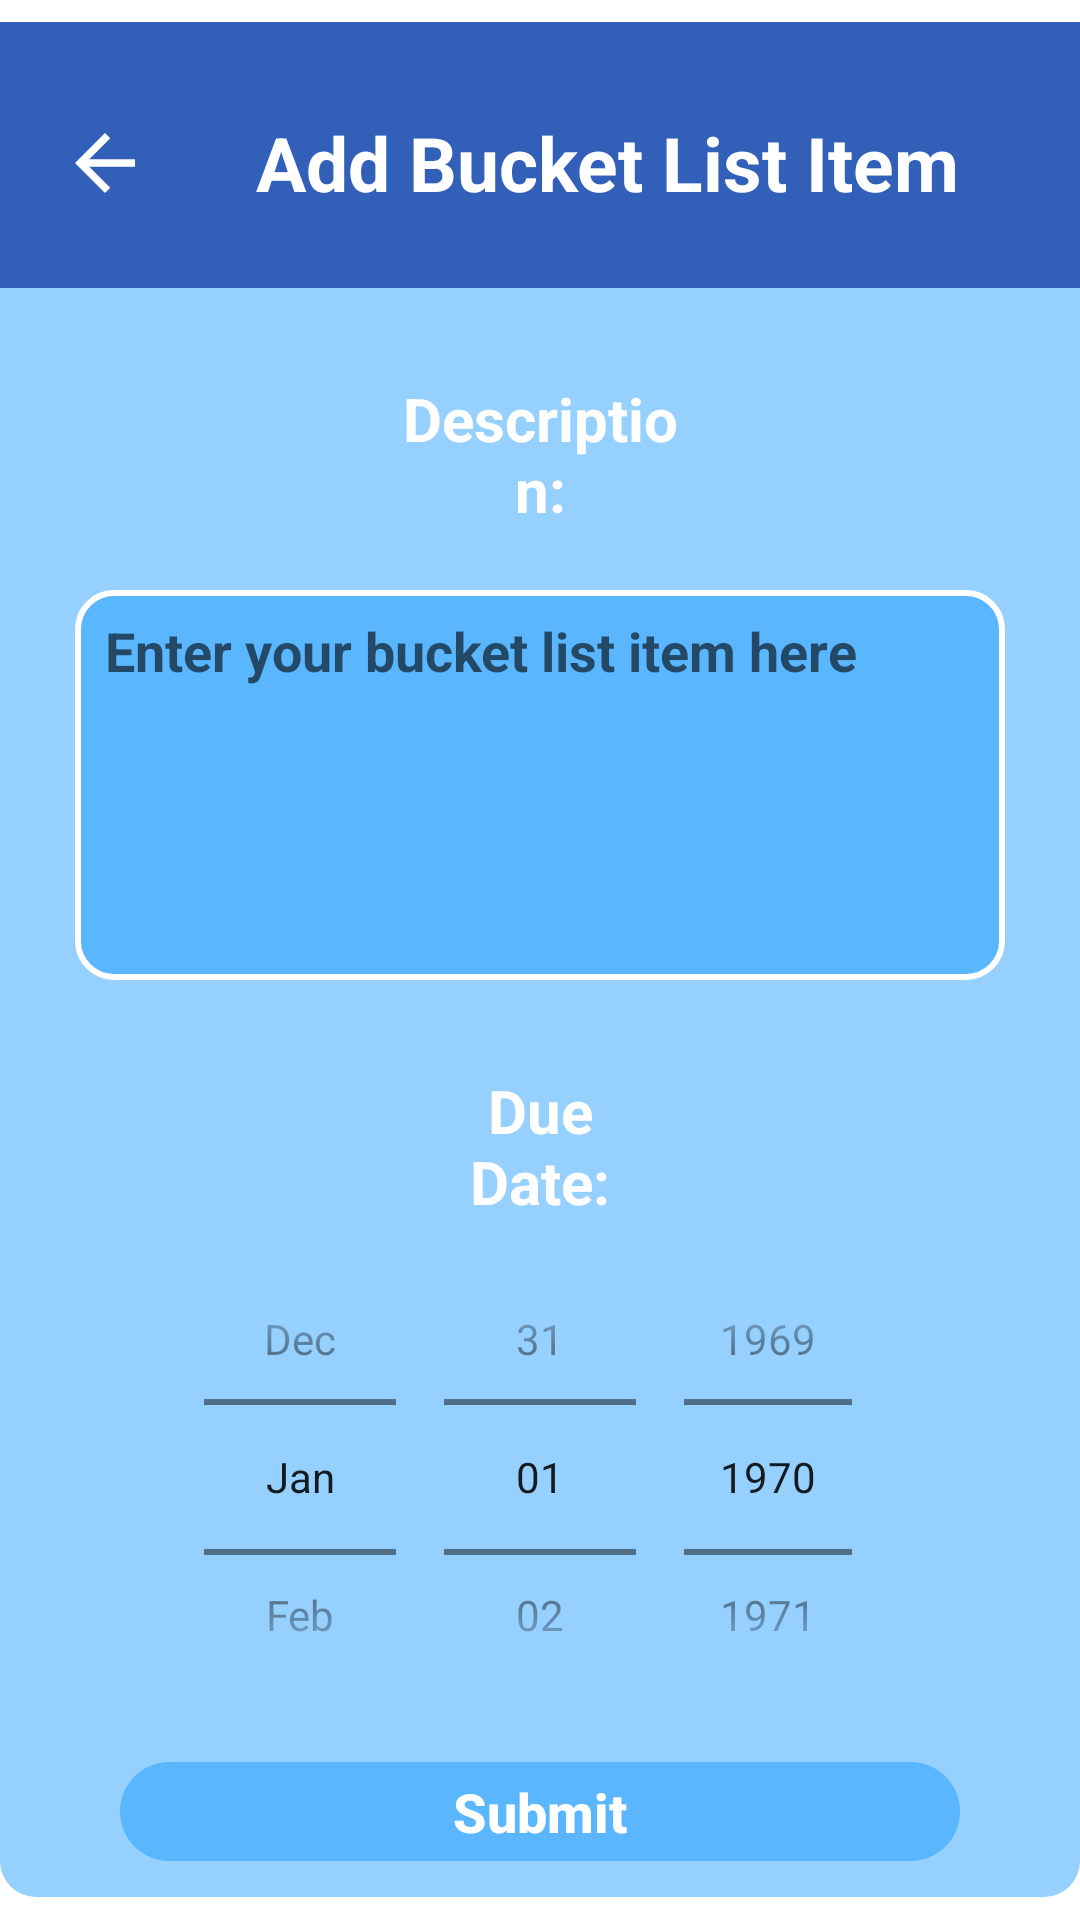

Locate icon controls on the screen. Image size 1080 x 1920, boxes as (x1=x1, y1=y1, x2=x2, y2=y2).
back arrow: (x1=75, y1=133, x2=135, y2=193)
